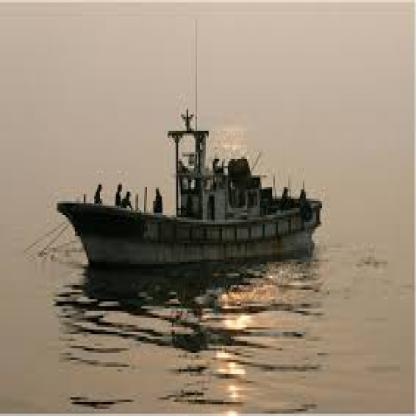fish-b: (47, 103, 331, 287)
